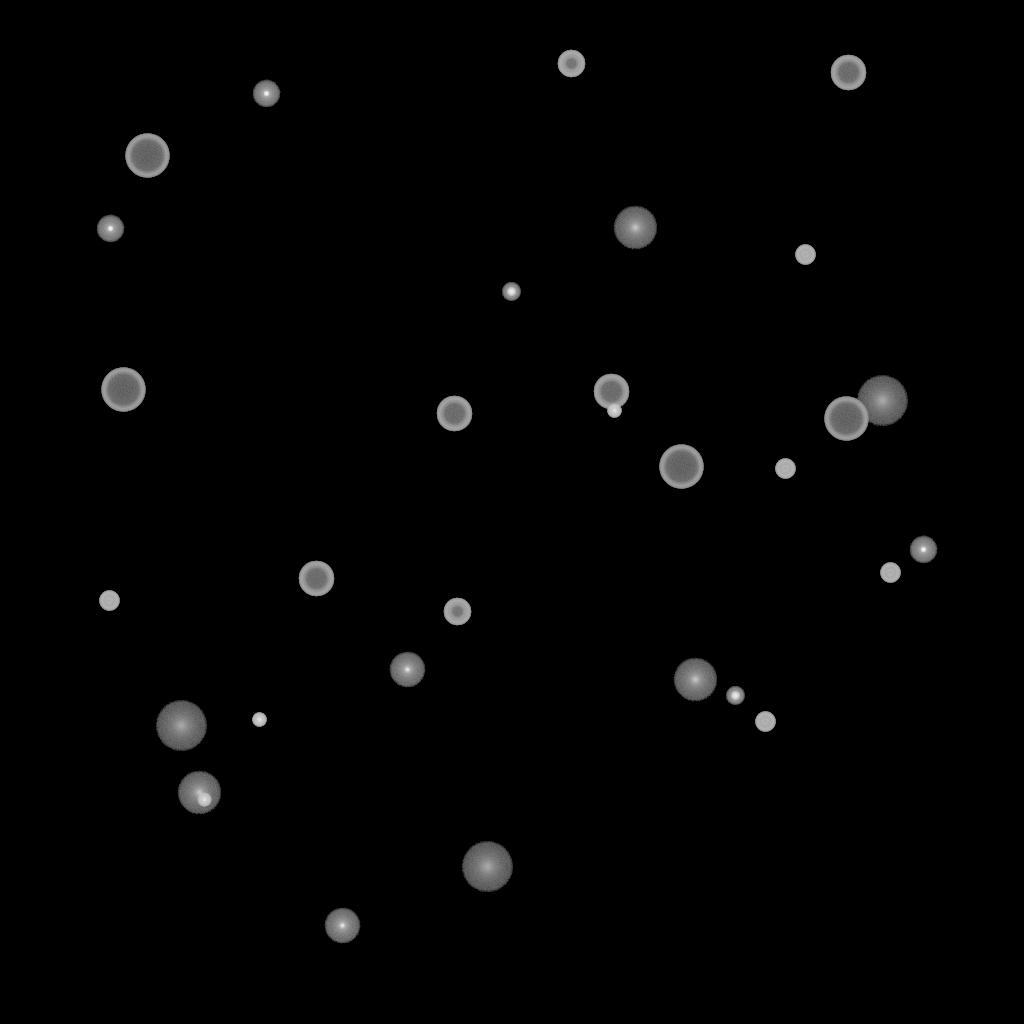depth:-10: (252, 80, 280, 108), (96, 215, 124, 243), (909, 536, 937, 564)
depth:-20: (726, 687, 744, 705), (502, 283, 520, 301)
depth:-30: (252, 713, 266, 727), (197, 793, 211, 807), (607, 404, 621, 418)
depth:-40: (880, 563, 900, 583), (755, 712, 775, 732), (99, 591, 119, 611), (775, 459, 795, 479), (795, 245, 815, 265)
depth:-50: (557, 50, 585, 78), (443, 598, 471, 626)
depth:-60: (830, 55, 866, 91), (298, 561, 334, 597), (436, 396, 472, 432), (593, 374, 629, 410)
depth:-70: (101, 368, 145, 412), (125, 134, 169, 178), (659, 445, 703, 489), (824, 397, 868, 441)
depth:0: (324, 908, 360, 944), (389, 652, 425, 688)
depth:10: (177, 771, 221, 815), (673, 658, 717, 702), (613, 206, 657, 250)
depth:20: (461, 842, 513, 892), (155, 701, 207, 751), (856, 376, 908, 426)
